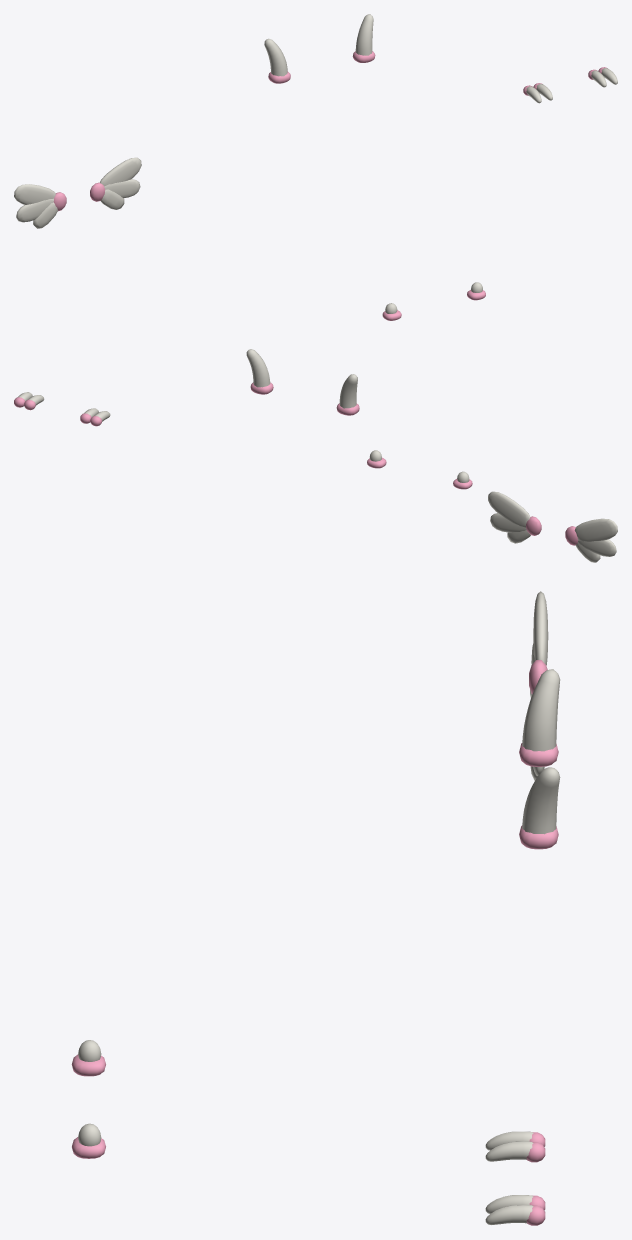
Rendered from features.fbx.
The picture shows the model from 3 angles, top to bottom: view 1: azimuth 30°, elevation 25°; view 2: azimuth 150°, elevation 25°; view 3: azimuth 270°, elevation 25°; orthographic projection. The views are drawn at different scales.
Visible parts, largest first — view 1: Wing_L_Fan, Wing_R_Fan, Horn_R_Tip, Horn_L_Tip; view 2: Wing_L_Fan, Wing_R_Fan, Horn_R_Tip, Horn_L_Tip; view 3: Horn_L_Tip, Horn_R_Tip, Claw_L_Nail, Claw_R_Nail, Wing_L_Fan.
Part boxes in pixels (x1,y1,x2,y2): Wing_L_Fan: (14,184,57,228); Wing_R_Fan: (100,157,141,209); Horn_R_Tip: (355,14,373,55); Horn_L_Tip: (264,38,287,76); Wing_L_Fan: (574,518,617,562); Wing_R_Fan: (488,491,530,543); Horn_R_Tip: (246,349,270,387); Horn_L_Tip: (339,374,357,408); Horn_L_Tip: (522,669,560,751); Horn_R_Tip: (522,767,560,834); Claw_L_Nail: (485,1131,533,1161); Claw_R_Nail: (485,1195,533,1224); Wing_L_Fan: (530,591,548,697).
Bounding box in the file's own units: 3.65 × 1.16 × 1.3.
